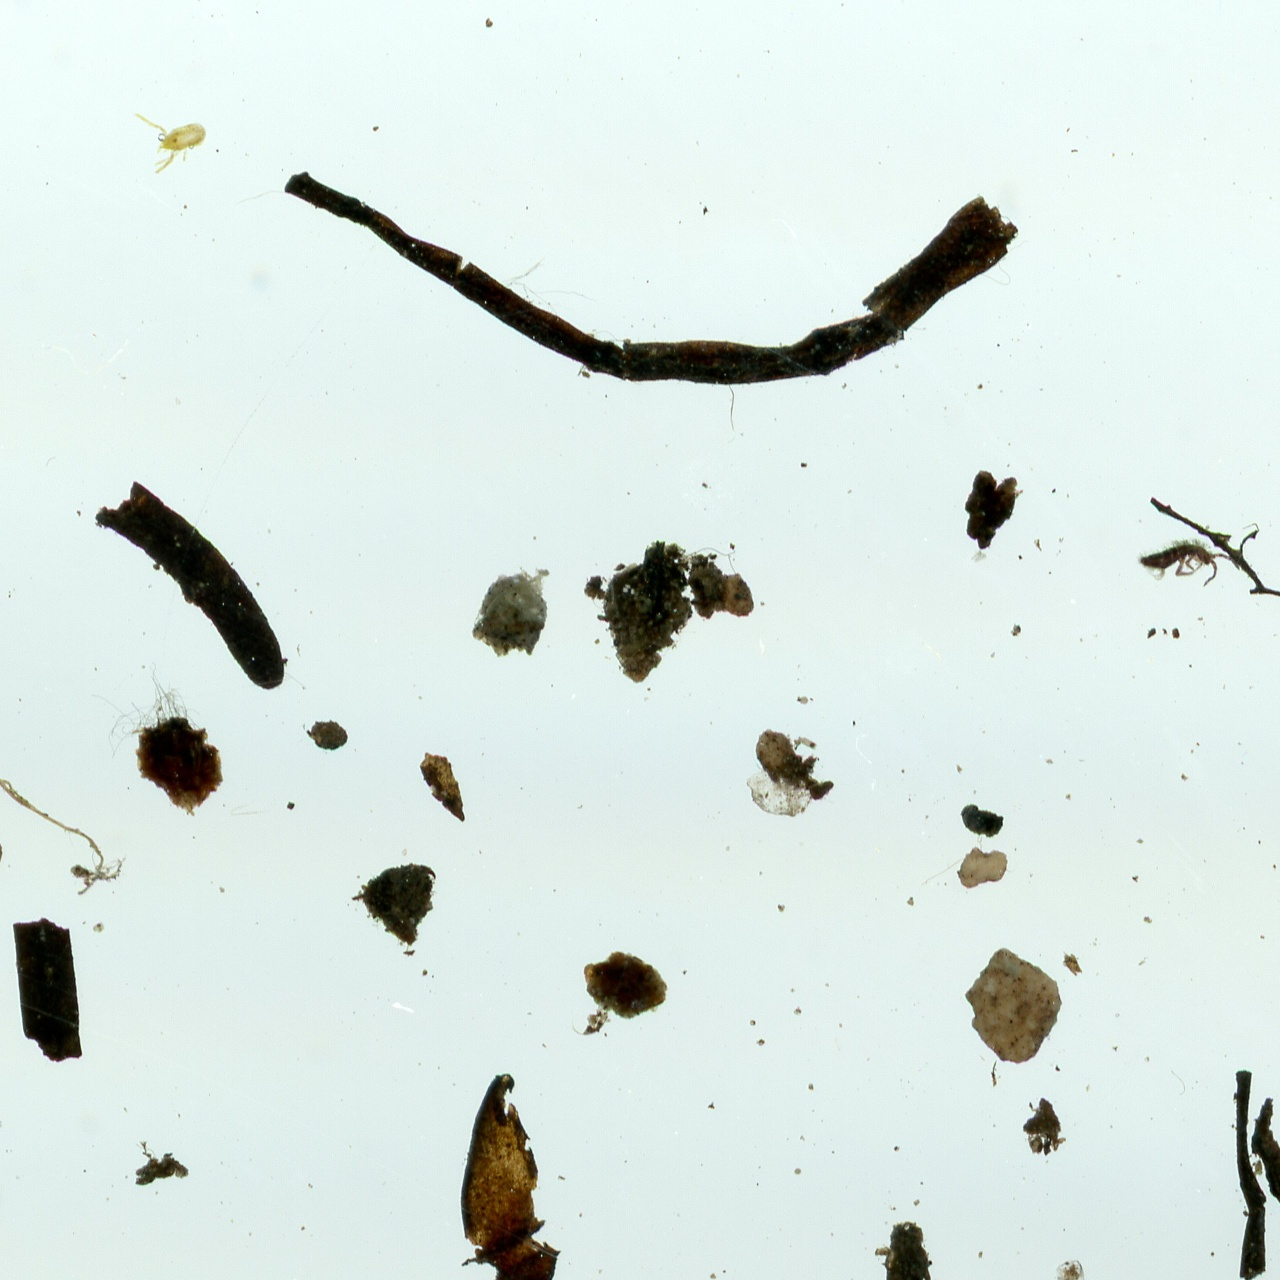arthropod: (127, 94, 220, 182), (1136, 540, 1230, 584)
